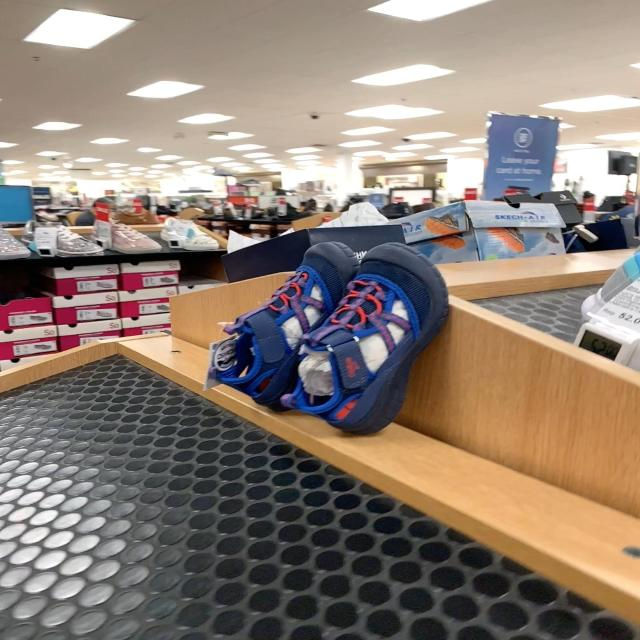shoe: (294, 239, 450, 433)
